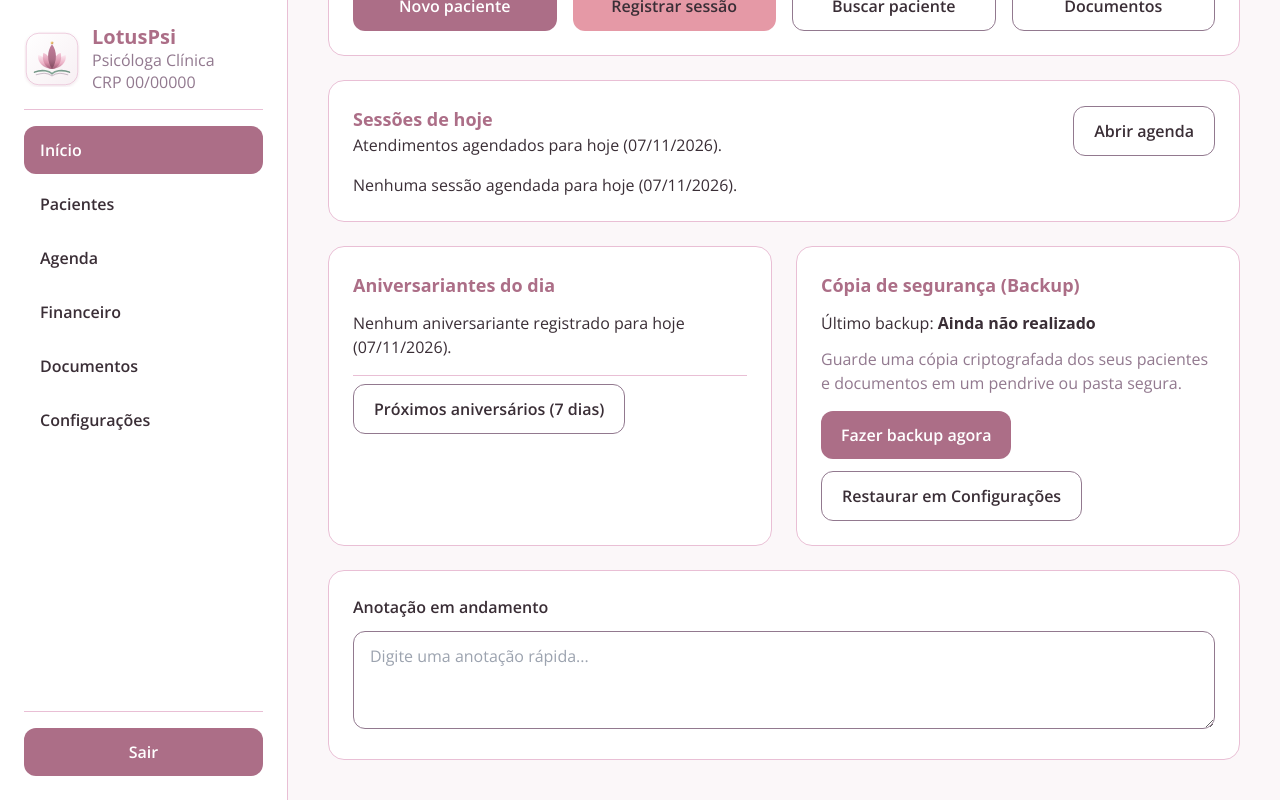
Test: Inatividade de 30 min e botão Sair (F1-T6 — RN05 e RN06) › bloqueia após inatividade sem perder o texto digitado em formulários abertos e botão Sair bloqueia a sessão
(page scrolled)
Expected: the button "Sair" is shown, top-left (24, 728), bottom-right (263, 776)
// Digita um rascunho no formulário aberto
Type "Rascunho importante da sessão em andamento" into the text box labelled "Anotação em andamento" at (784, 680), box top-left (353, 631), bottom-right (1215, 729)
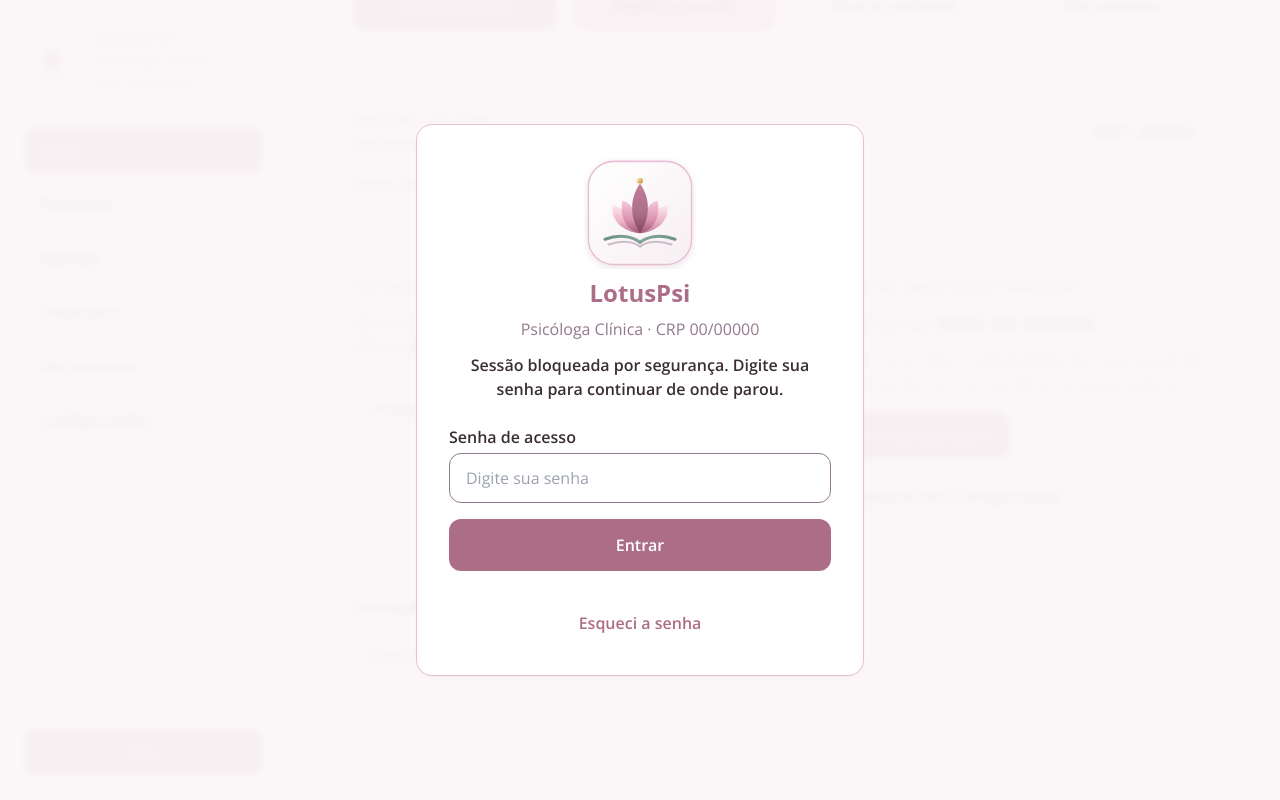
Expected: the dialog "Sessão bloqueada" is shown
// Desbloqueia digitando a senha no overlay
Type "SenhaCorreta123" into the password field labelled "Senha de acesso" at (640, 478), box top-left (449, 453), bottom-right (831, 503)
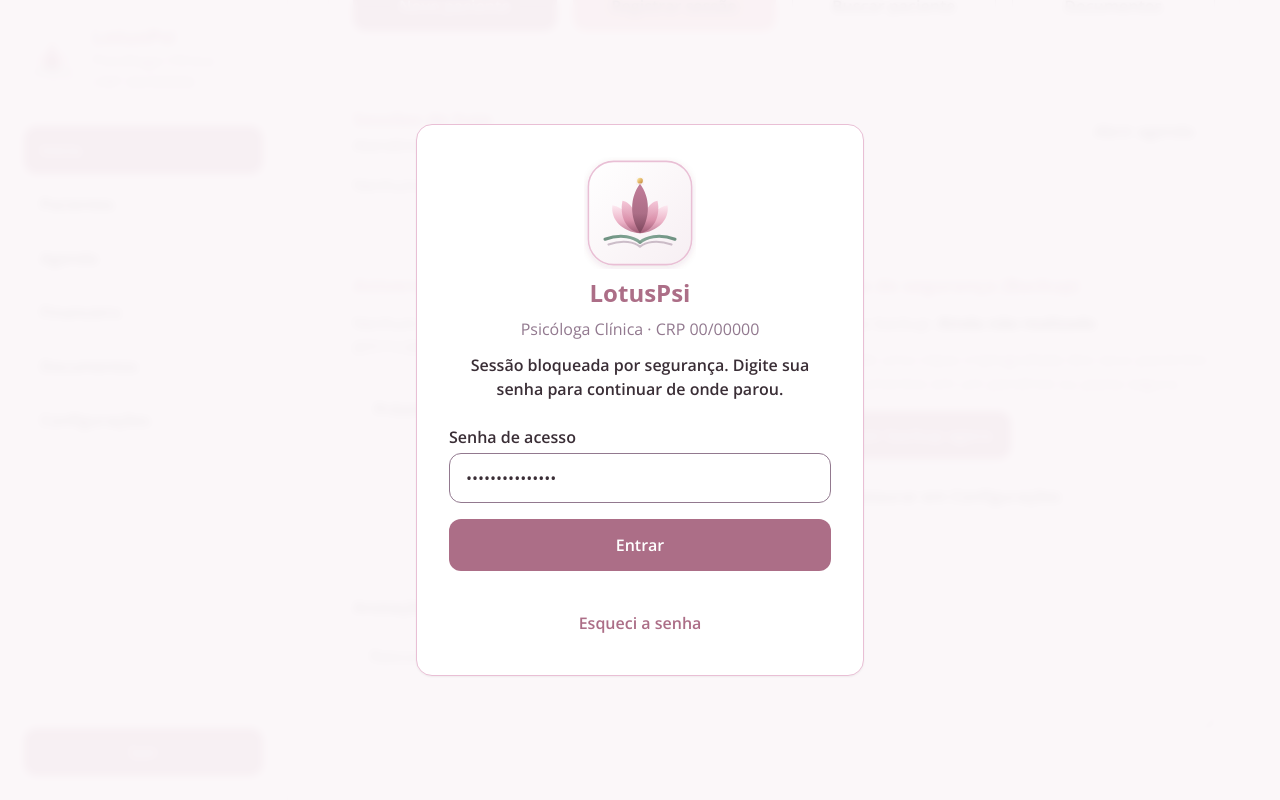
Click the button "Entrar" at (640, 545), box top-left (449, 519), bottom-right (831, 571)
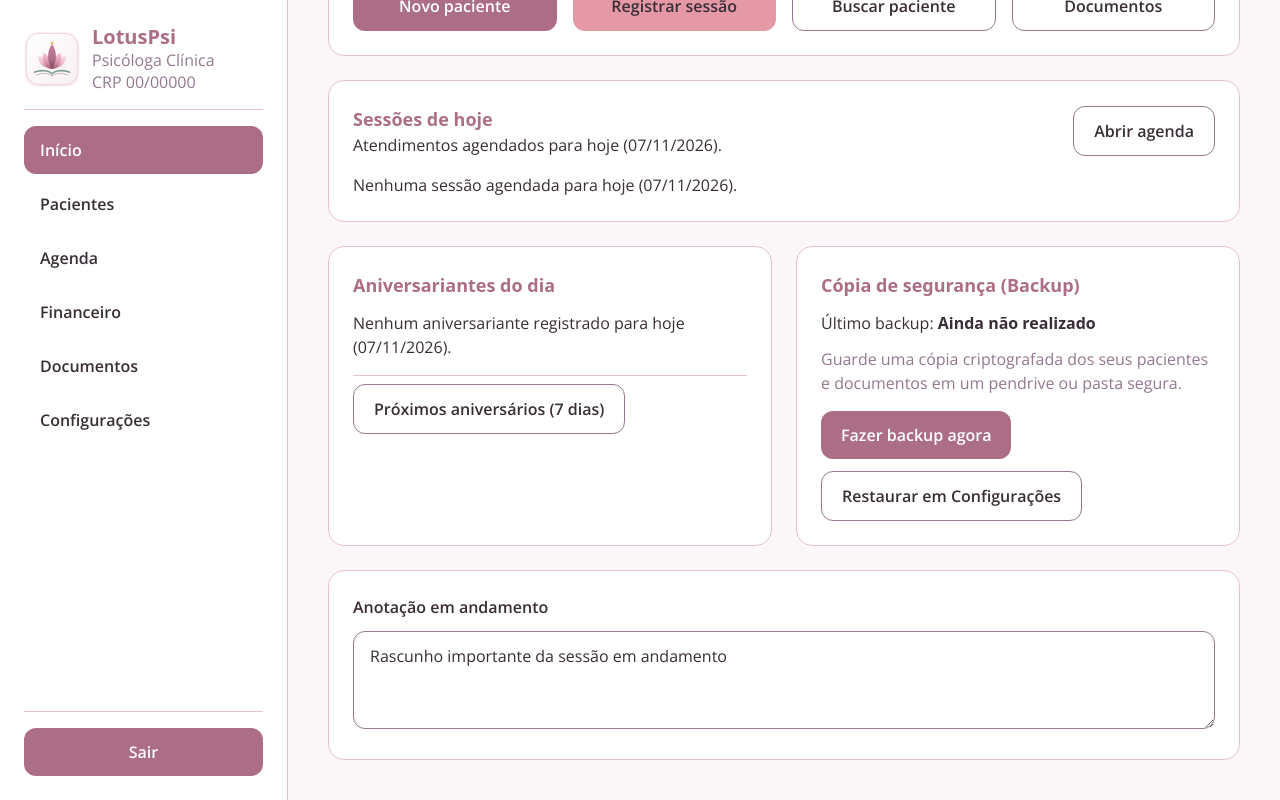
Expected: the text "Sessão bloqueada" is gone
// Clicar no botão "Sair" bloqueia imediatamente (RN06)
Click the button "Sair" at (144, 752), box top-left (24, 728), bottom-right (263, 776)
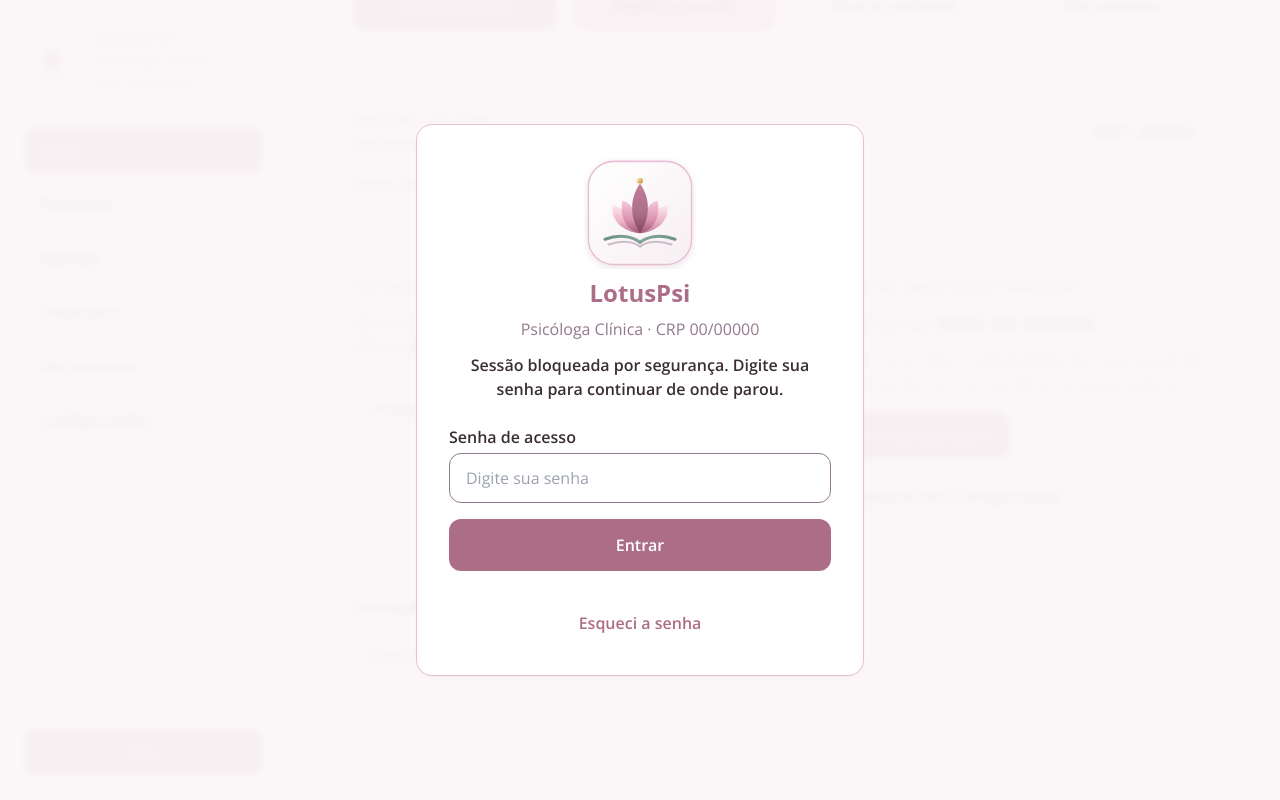
Expected: the dialog "Sessão bloqueada" is shown
